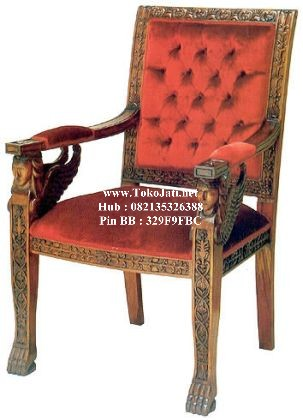Carving Chair: (30, 25, 296, 399)
